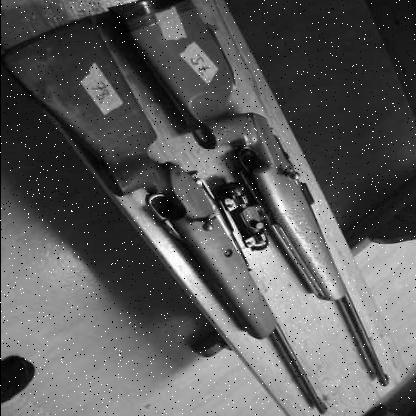rifle: (20, 51, 332, 414), (120, 7, 398, 398)
